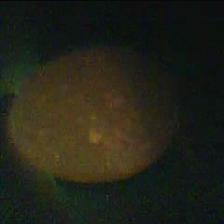fertile: (4, 47, 190, 182)
